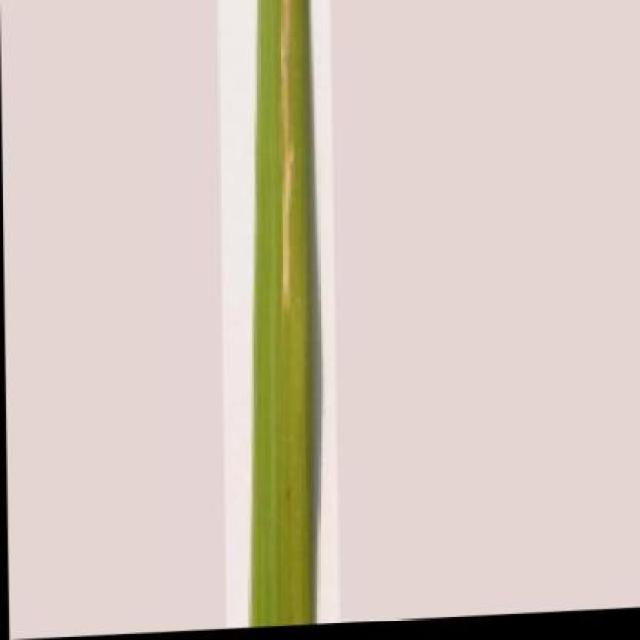Brown_Spot: (240, 0, 322, 631)
